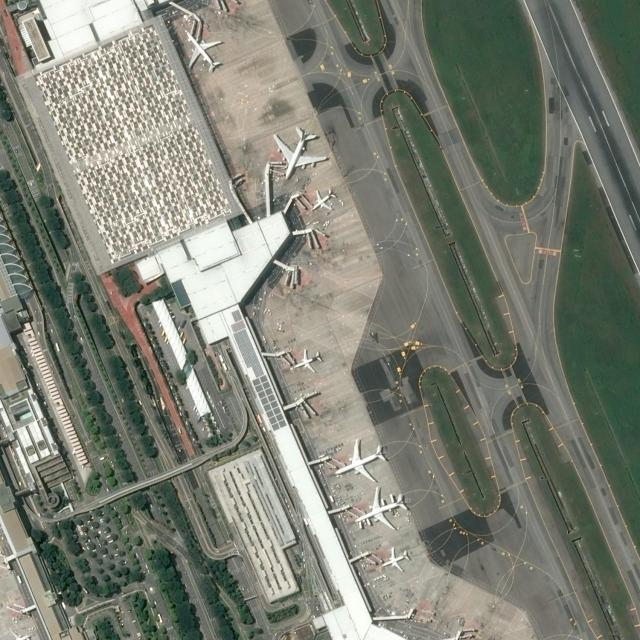Aircraft: (275, 126, 331, 179), (356, 486, 410, 530), (336, 438, 389, 481), (187, 31, 224, 71), (293, 348, 323, 373), (384, 546, 412, 572), (312, 188, 338, 212), (5, 630, 32, 640)
